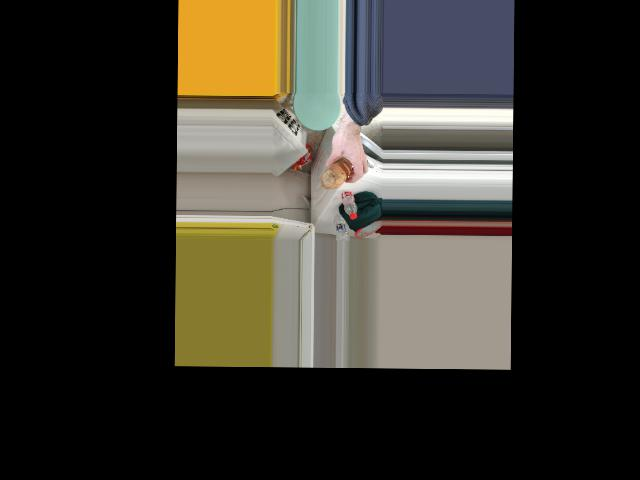sweet_potato: (322, 155, 351, 188)
